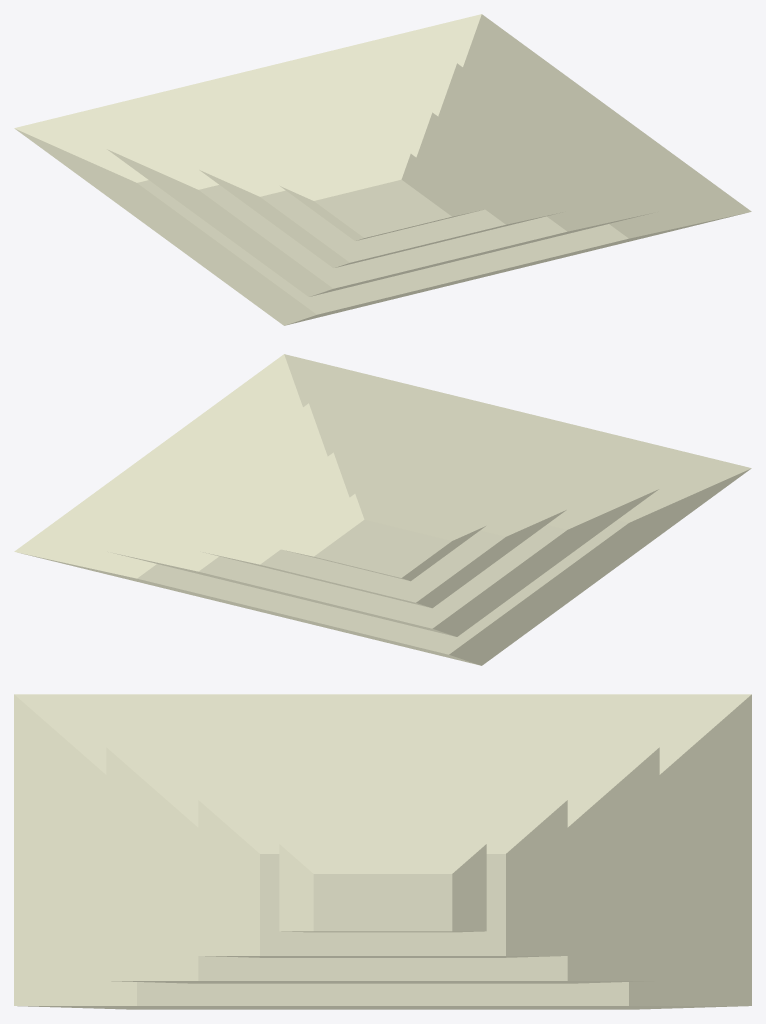
The model's file is Diffuser_Square_24.dae.
3 views of the same model, one above another, from view 1: azimuth 30°, elevation 25°; view 2: azimuth 150°, elevation 25°; view 3: azimuth 270°, elevation 25° (orthographic). The views are drawn at different scales.
Parts seen in each view (by area): view 1: SketchUp, group_0, group_2, group_1; view 2: SketchUp, group_0, group_2, group_1; view 3: SketchUp, group_0, group_2, group_1.
Boxes of the visible parts, x1,y1,x2,y2 form: SketchUp: (14, 14, 751, 325); group_0: (106, 63, 659, 296); group_2: (199, 112, 566, 268); group_1: (279, 153, 486, 241); SketchUp: (14, 354, 751, 665); group_0: (106, 403, 659, 636); group_2: (199, 452, 566, 608); group_1: (279, 493, 486, 581); SketchUp: (14, 694, 751, 1009); group_0: (106, 747, 659, 983); group_2: (198, 800, 567, 957); group_1: (279, 843, 486, 932).
Size of the model in its own units: 24 by 24 by 2.
